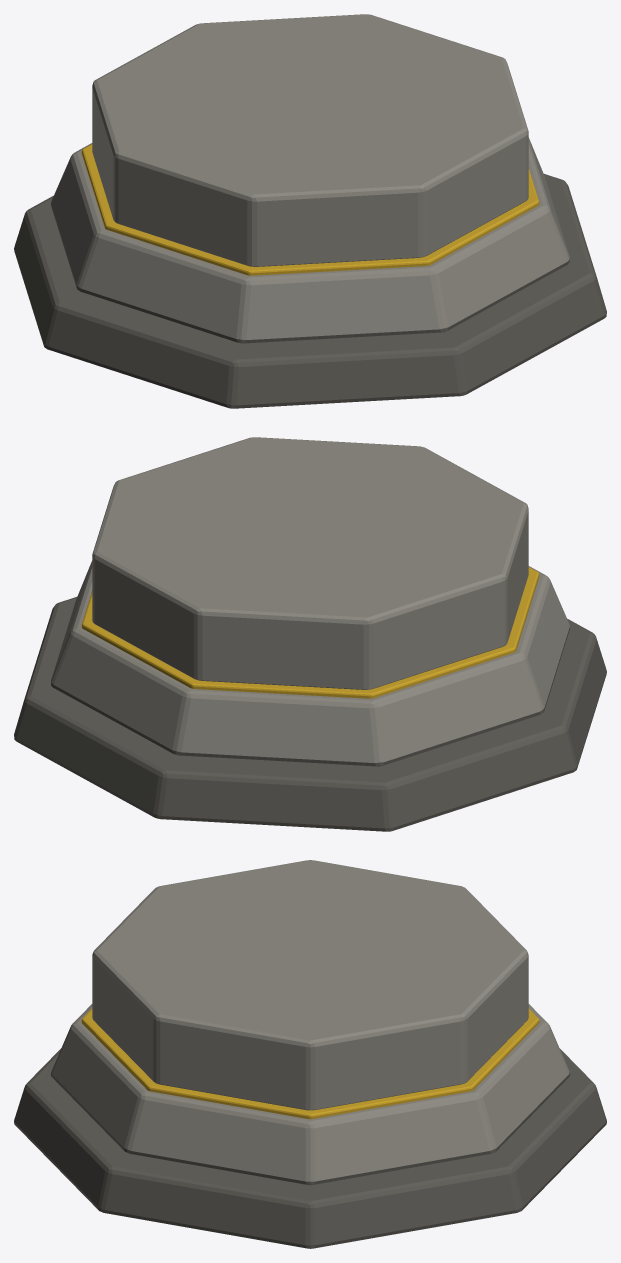
Rendered from prop_pedestal.glb.
3 views of the same model, one above another, from view 1: azimuth 30°, elevation 25°; view 2: azimuth 150°, elevation 25°; view 3: azimuth 270°, elevation 25° (orthographic). The views are drawn at different scales.
Parts seen in each view (by area): view 1: prop_pedestal; view 2: prop_pedestal; view 3: prop_pedestal.
Part boxes in pixels (box(x1,y1,x2,y2)): prop_pedestal: box(14, 14, 606, 408); prop_pedestal: box(14, 437, 606, 831); prop_pedestal: box(14, 860, 606, 1248).
Size of the model in its own units: 0.8923 by 0.29 by 0.8923.
